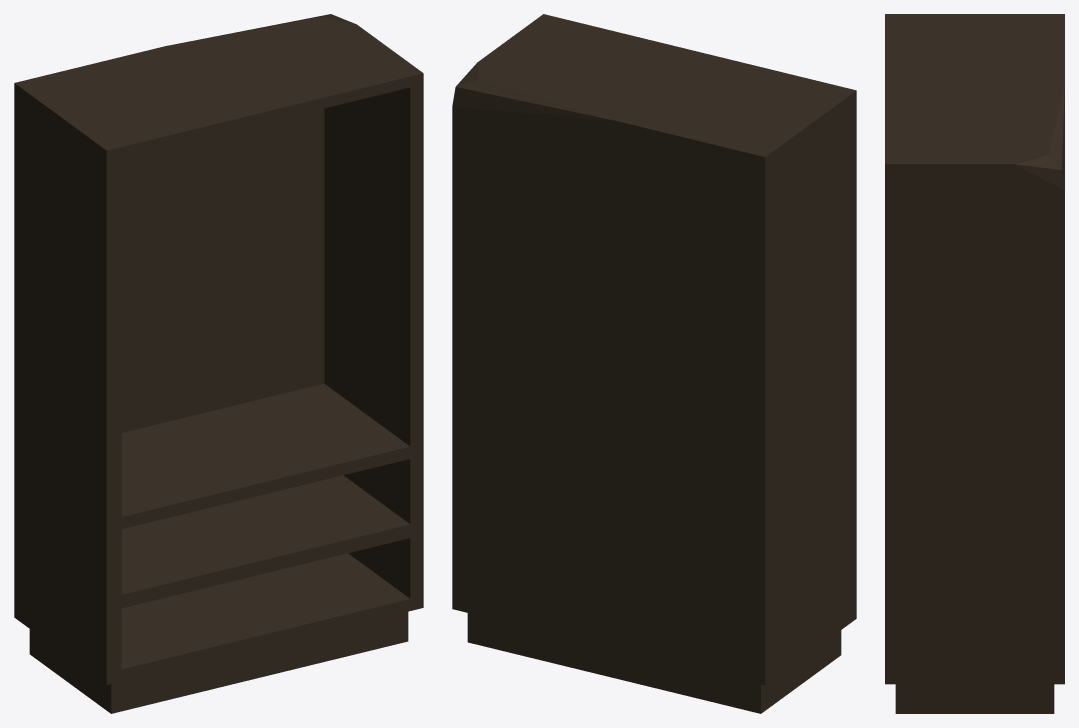
The model's file is SM_Prop_Wardrobe_01.fbx.
The picture shows the model from 3 angles, left to right: view 1: azimuth 30°, elevation 25°; view 2: azimuth 150°, elevation 25°; view 3: azimuth 270°, elevation 25°; orthographic projection. The views are drawn at different scales.
Visible parts, largest first — view 1: SM_Prop_Wardrobe_01; view 2: SM_Prop_Wardrobe_01; view 3: SM_Prop_Wardrobe_01.
Boxes of the visible parts, left/top/right/bottom form: SM_Prop_Wardrobe_01: left=14, top=14, right=423, bottom=713; SM_Prop_Wardrobe_01: left=452, top=14, right=856, bottom=713; SM_Prop_Wardrobe_01: left=885, top=14, right=1064, bottom=713.
Bounding box in the file's own units: 112 × 193 × 56.82.
